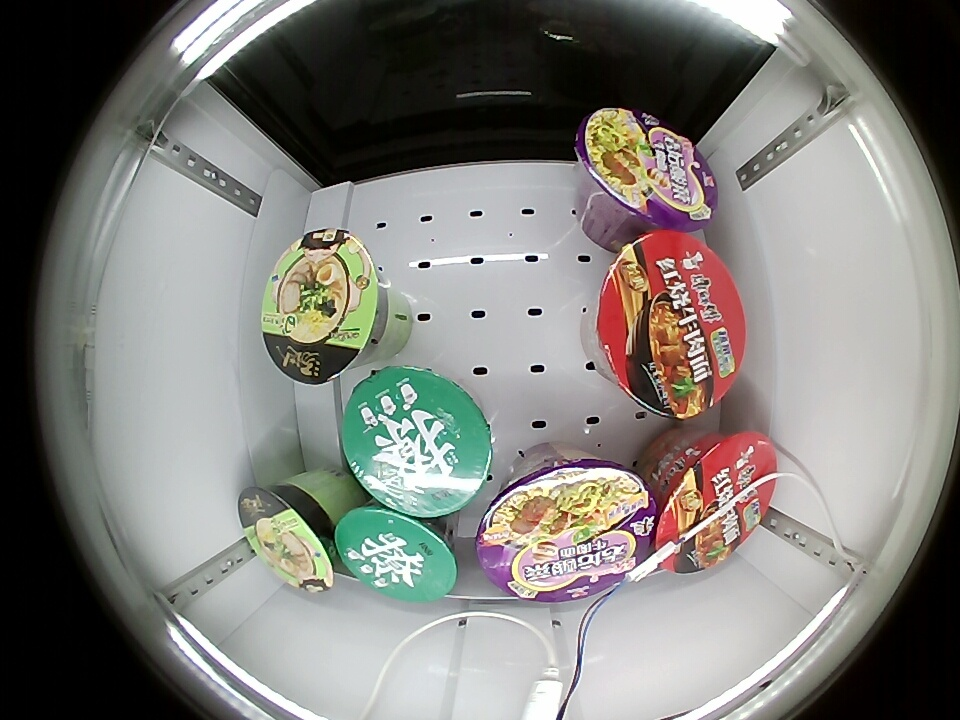hongsao: (590, 233, 751, 417), (662, 431, 782, 579)
luse: (341, 370, 493, 518), (337, 507, 463, 609)
suancai: (481, 458, 657, 609), (572, 103, 725, 233)
tangdaren: (257, 226, 384, 385), (233, 485, 335, 598)
